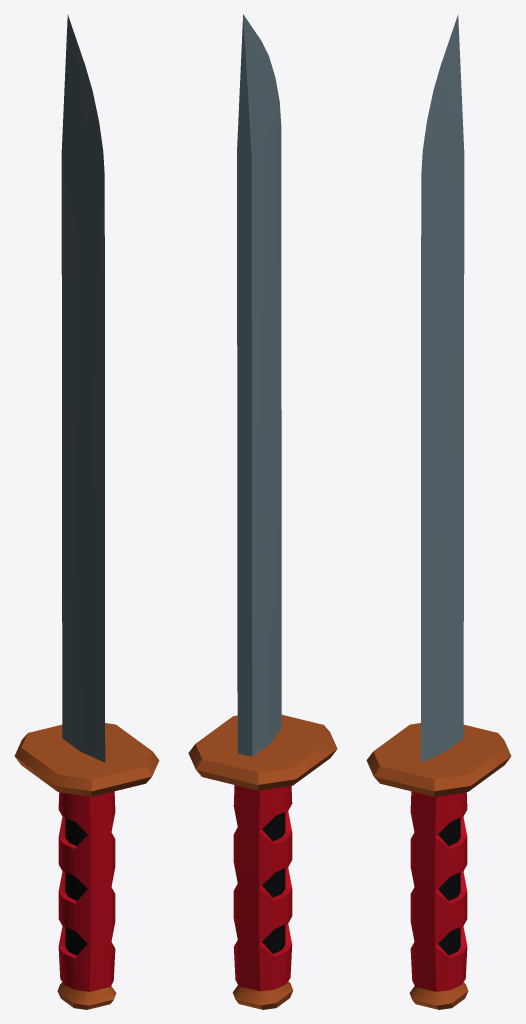
File: katana.obj
The picture shows the model from 3 angles, left to right: view 1: azimuth 30°, elevation 25°; view 2: azimuth 150°, elevation 25°; view 3: azimuth 330°, elevation 25°; orthographic projection. The views are drawn at different scales.
Visible parts, largest first — view 1: katana_Cube.123; view 2: katana_Cube.123; view 3: katana_Cube.123.
Part boxes in pixels (<box>): katana_Cube.123: <box>14,14,159,1009</box>; katana_Cube.123: <box>188,14,337,1009</box>; katana_Cube.123: <box>366,14,511,1009</box>.
Bounding box in the file's own units: 0.1708 × 1.53 × 0.1983.
